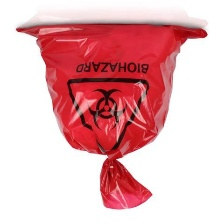plastic_bag: (11, 22, 215, 214)
